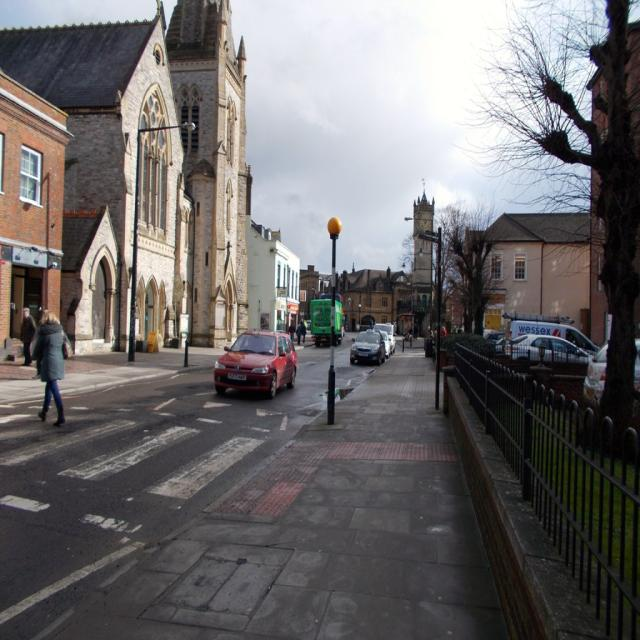car: (213, 326, 296, 401), (350, 329, 383, 363)
